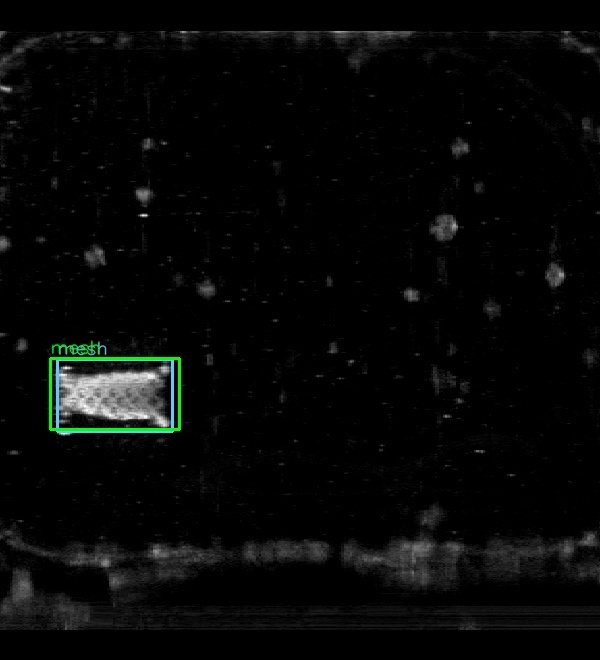mesh: (57, 359, 172, 431)
